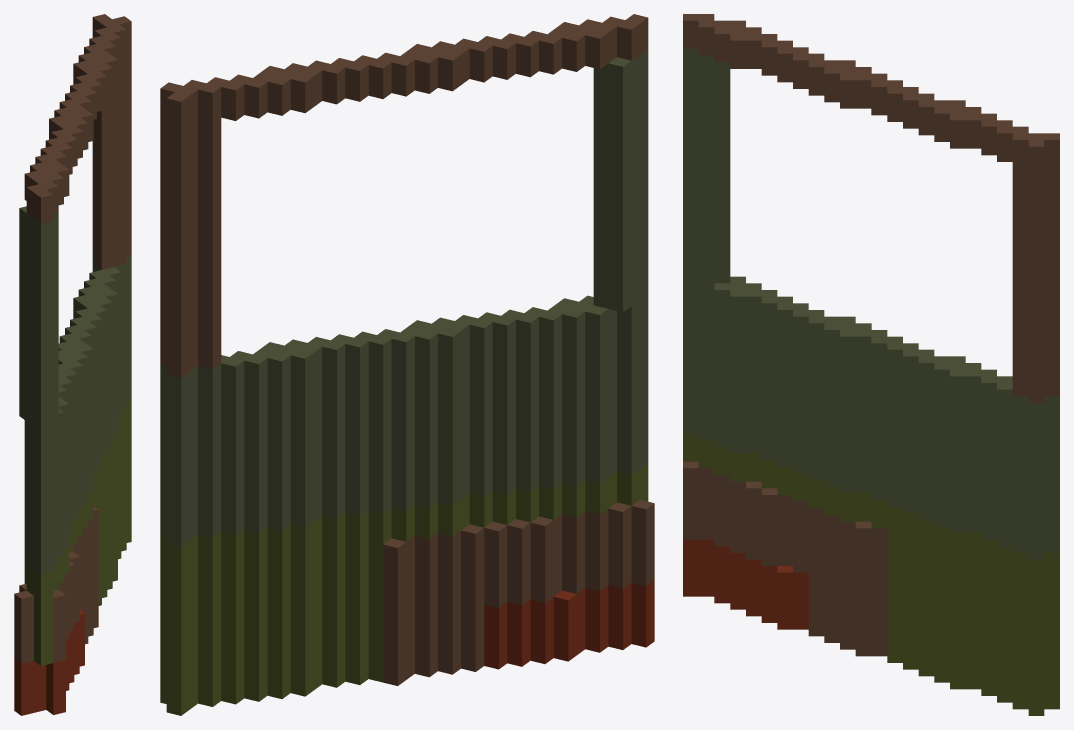
Rendered from abandoned_army_truck_near_door.glb.
3 views of the same model, side by side, from view 1: azimuth 30°, elevation 25°; view 2: azimuth 150°, elevation 25°; view 3: azimuth 270°, elevation 25° (orthographic). The views are drawn at different scales.
Visible parts, largest first — view 1: body:compound; view 2: body:compound; view 3: body:compound.
Part boxes in pixels (box(x1,y1,x2,y2)): body:compound: box(14, 14, 131, 715); body:compound: box(160, 14, 654, 715); body:compound: box(683, 14, 1059, 715).
Size of the model in its own units: 0.6562 by 1.25 by 0.75.
